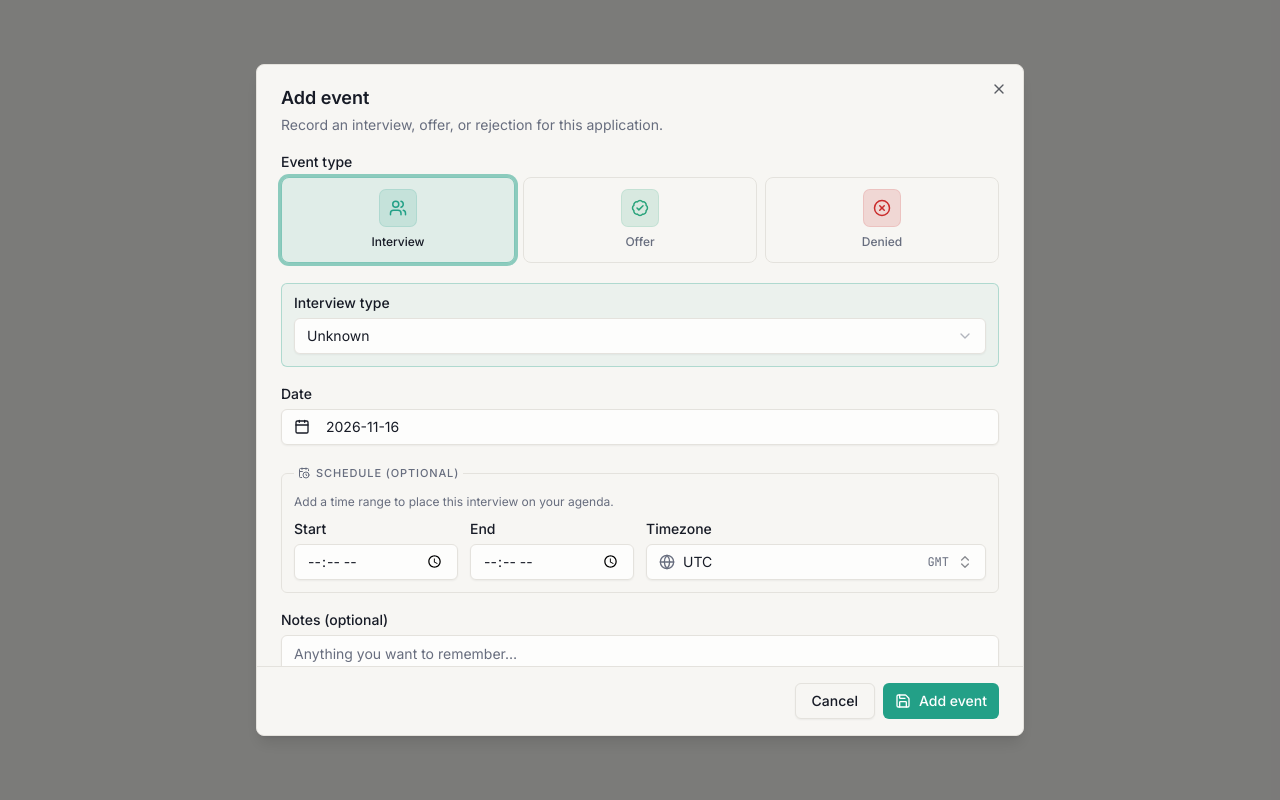
Scenario: TimelineEventForm — interview type visibility (AC7) › hides the interview type select for Denied
Click the radio button labelled "Denied". click: (882, 220)
box: [765,177,999,263]
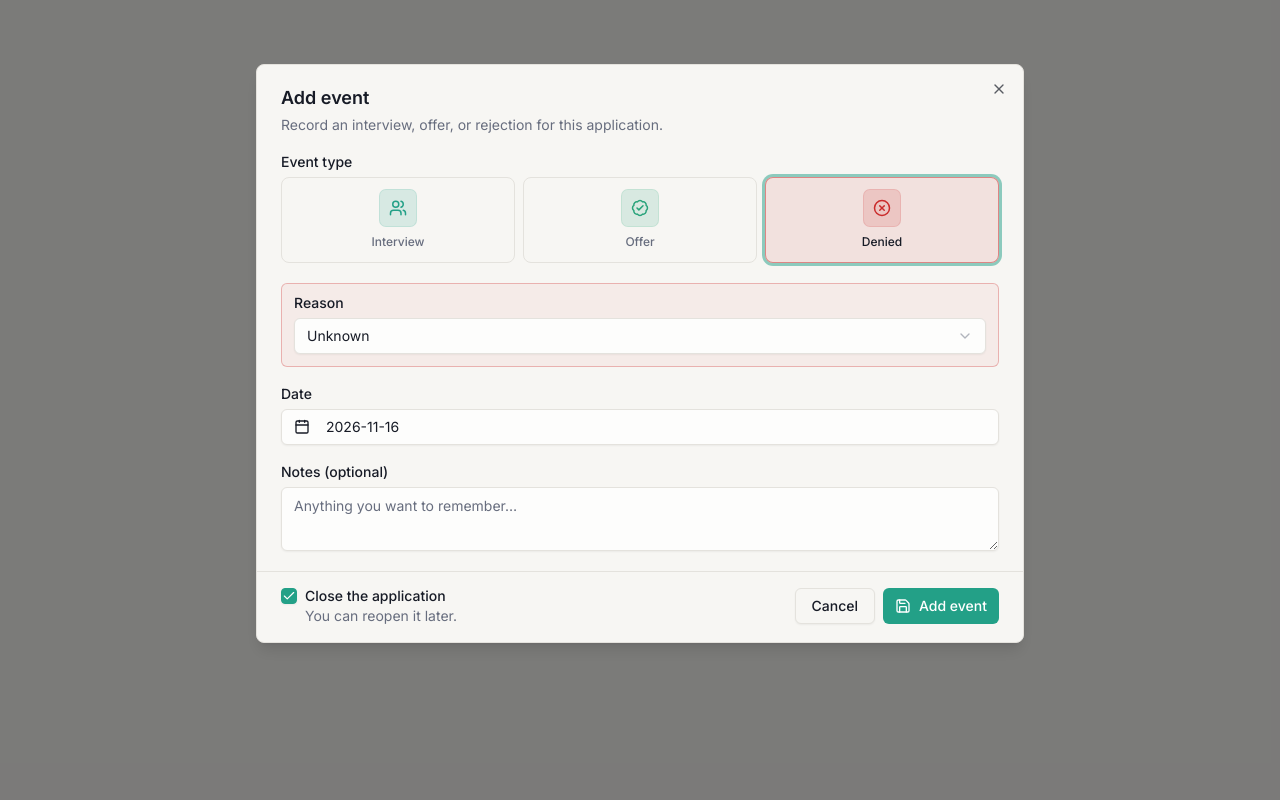
Check: the label "Interview type" is gone
